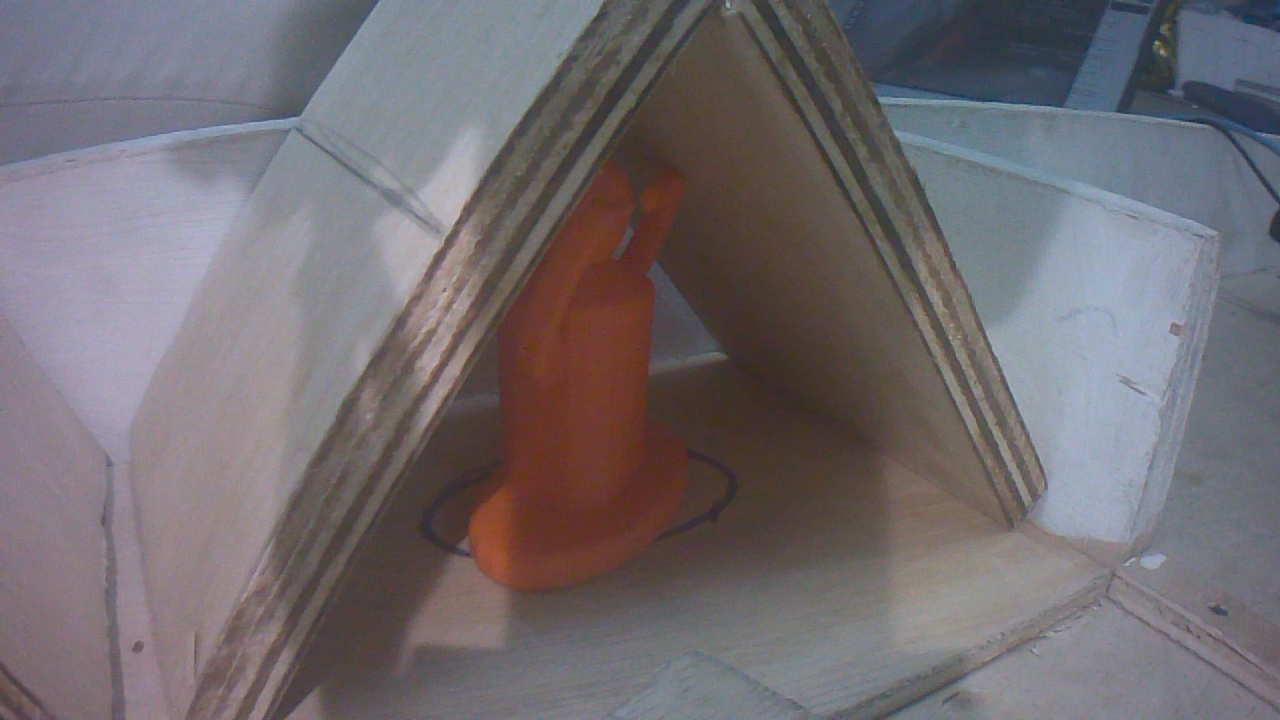real: (471, 147, 693, 594)
